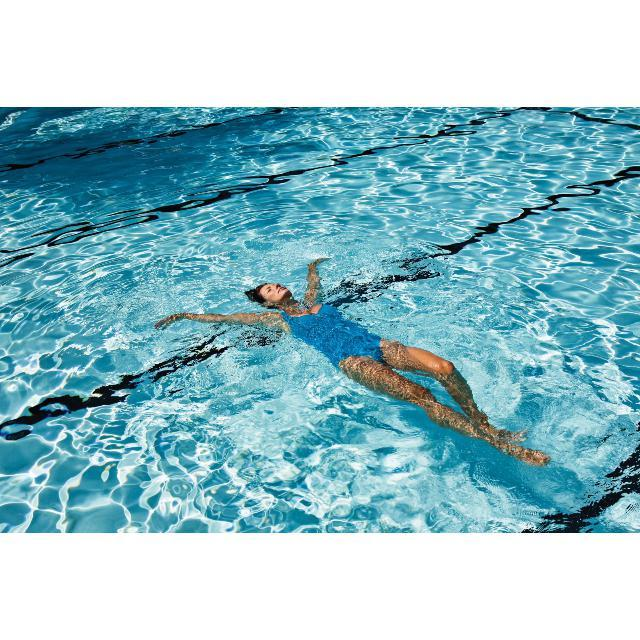human: (153, 254, 553, 468)
